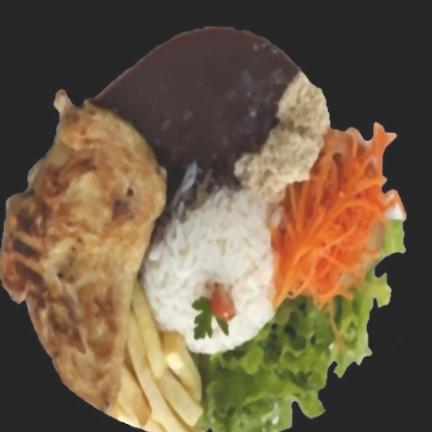salad: (0, 92, 166, 412)
